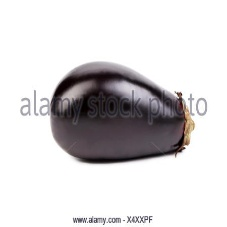eggplant: (51, 59, 191, 164)
